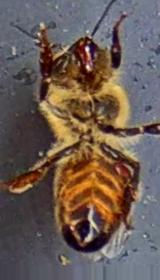varroa_mite: (101, 146, 143, 188)
